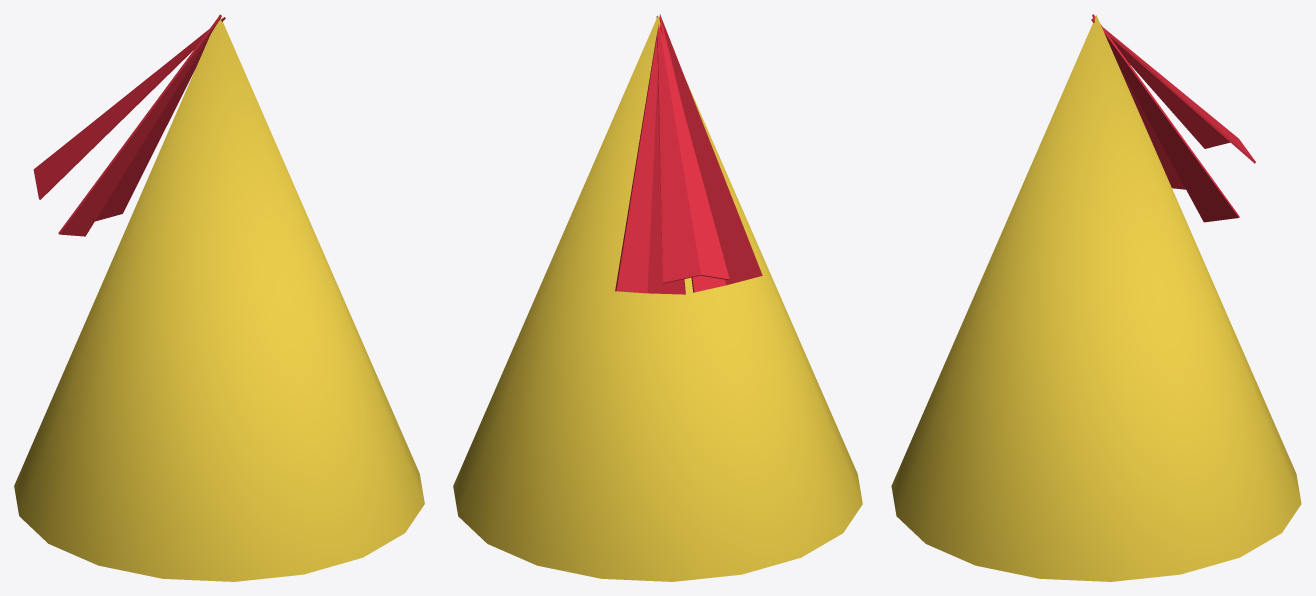
The model's file is partyhat.fbx.
3 renders of one model, left to right at view 1: azimuth 30°, elevation 25°; view 2: azimuth 150°, elevation 25°; view 3: azimuth 270°, elevation 25°, orthographic.
Parts seen in each view (by area): view 1: Circle.006, Plane.001; view 2: Circle.006, Plane.001; view 3: Circle.006, Plane.001.
Part boxes in pixels (<box>): Circle.006: <box>14,14,424,581</box>; Plane.001: <box>33,14,225,236</box>; Circle.006: <box>453,16,862,581</box>; Plane.001: <box>615,14,762,294</box>; Circle.006: <box>891,15,1301,581</box>; Plane.001: <box>1091,14,1255,222</box>.
Bounding box in the file's own units: 50.48 × 65.29 × 50.33.
